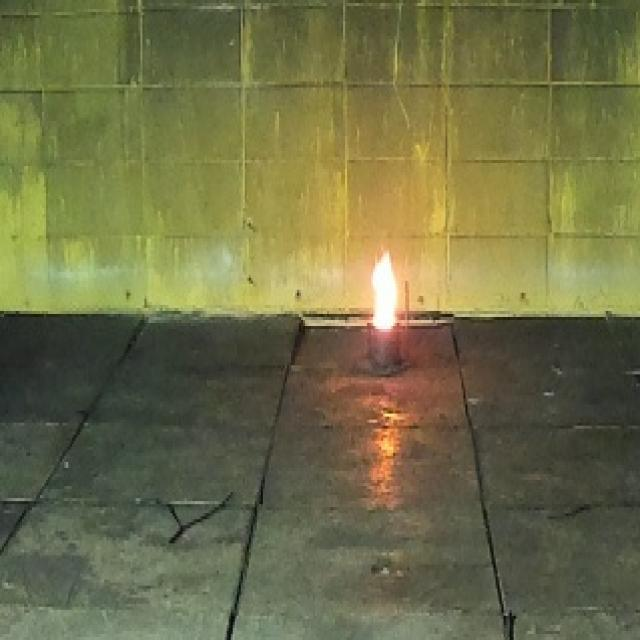Fire: (371, 246, 399, 331)
